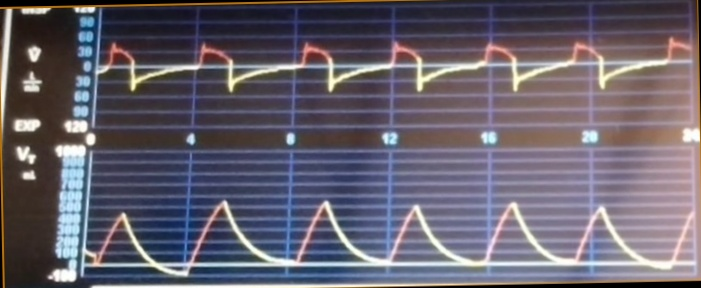Normal Flow: (100, 19, 693, 116)
Normal Volume: (88, 188, 693, 276)
